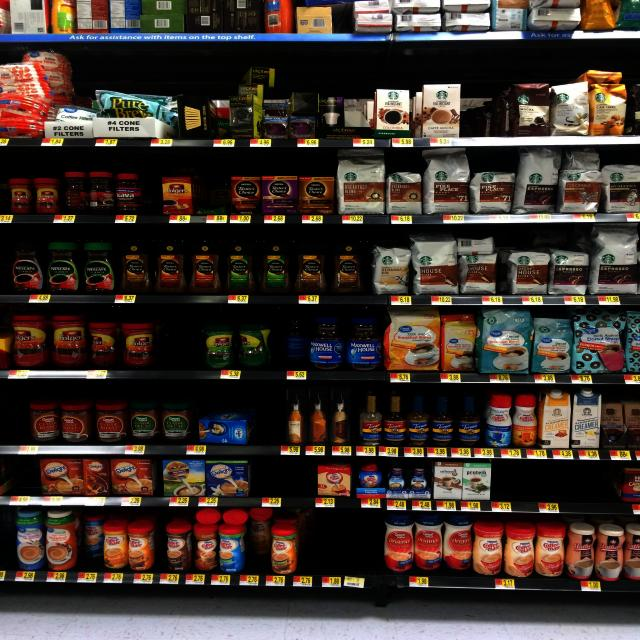empty_space: (499, 467, 605, 500), (310, 522, 383, 567), (257, 459, 311, 489), (169, 318, 199, 360), (256, 394, 280, 442), (0, 391, 24, 432), (8, 464, 35, 491), (200, 184, 227, 209), (145, 174, 159, 210)
